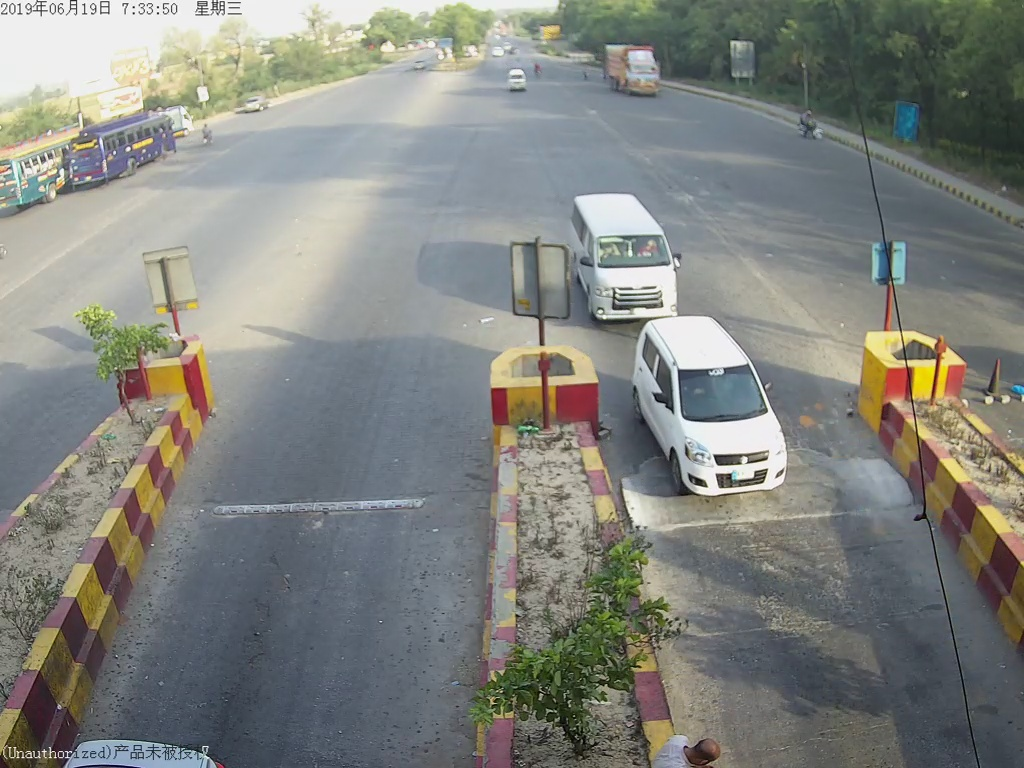Cat-1: (636, 325, 802, 495)
Cat-2: (566, 193, 690, 308)
